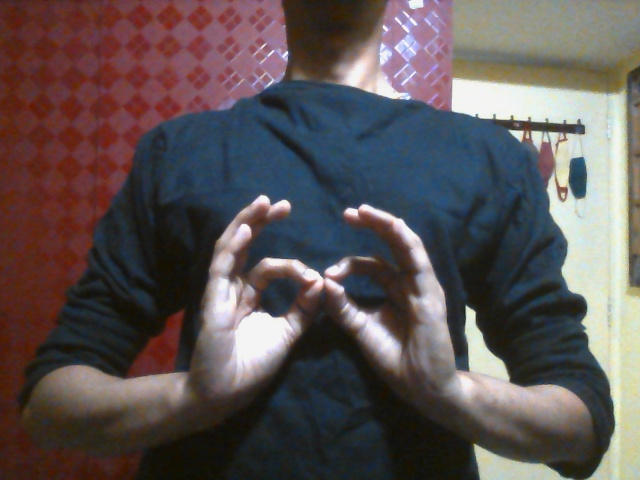B: (183, 189, 464, 457)
